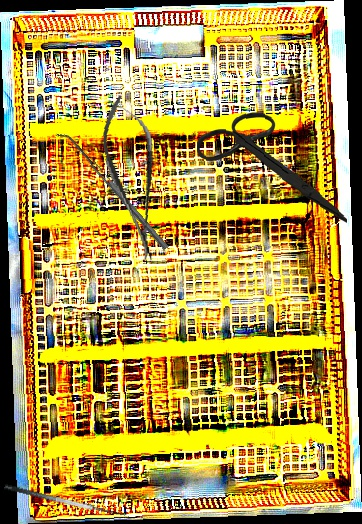Iris Scissors: (193, 109, 353, 223)
Micro Scissor: (94, 90, 171, 266)
Spatula Surgical: (55, 126, 169, 255), (3, 473, 130, 522)
